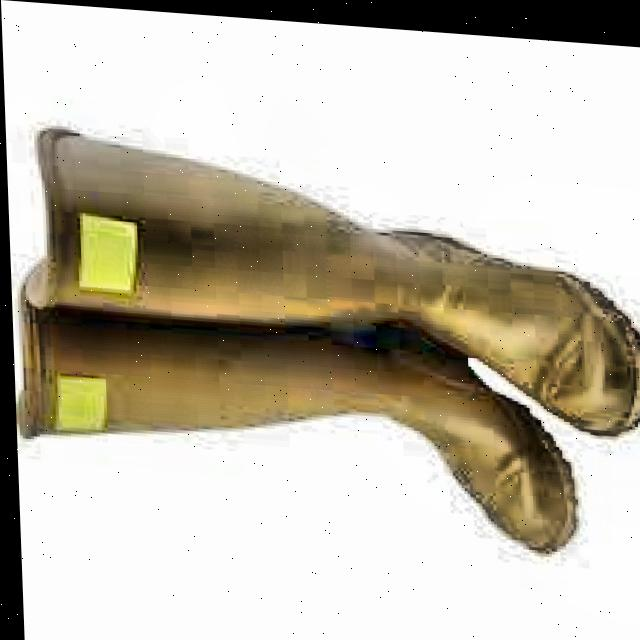shoes: (7, 140, 640, 554)
